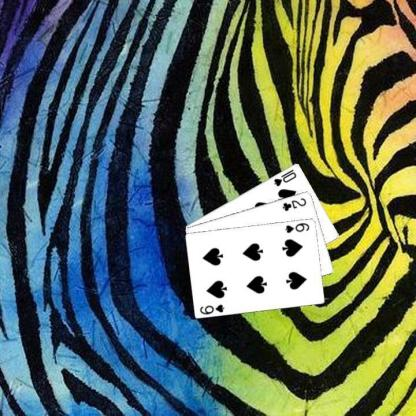10S: (272, 166, 298, 188)
2C: (280, 195, 307, 212)
6S: (198, 301, 225, 316), (283, 220, 310, 234)
